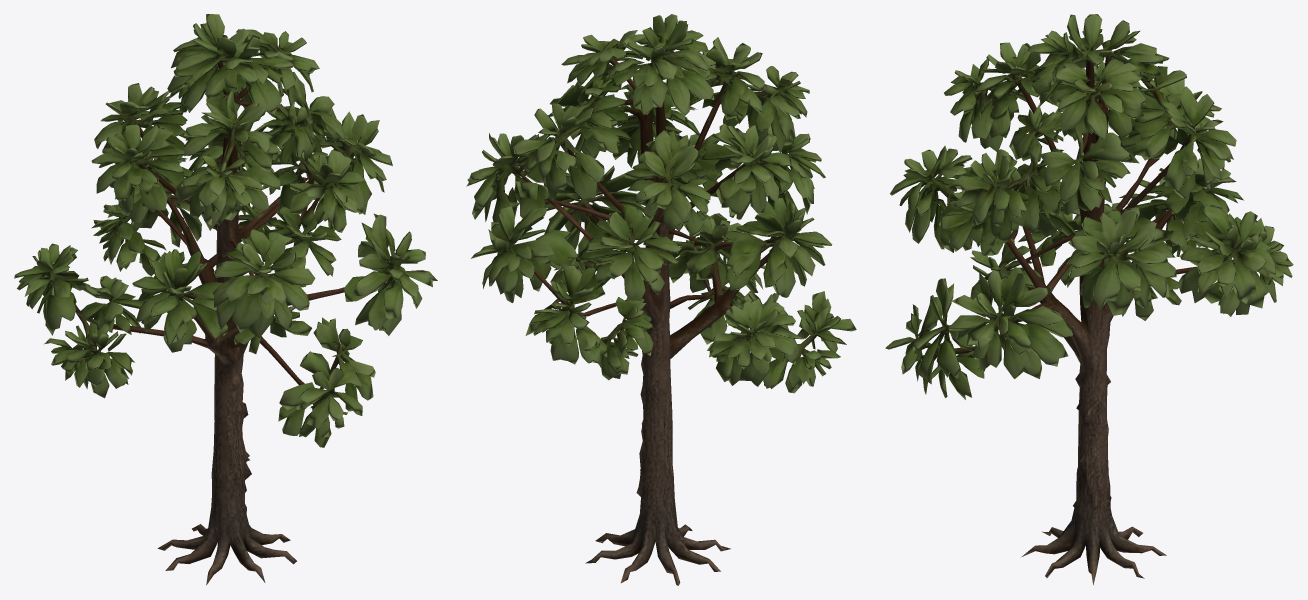
Rendered from sal_tree.glb.
The picture shows the model from 3 angles, left to right: view 1: azimuth 30°, elevation 25°; view 2: azimuth 150°, elevation 25°; view 3: azimuth 270°, elevation 25°; orthographic projection.
Visible parts, largest first — view 1: tripo_node_f646bff2-3a83-4f4a-bca9-8d86384ba72f; view 2: tripo_node_f646bff2-3a83-4f4a-bca9-8d86384ba72f; view 3: tripo_node_f646bff2-3a83-4f4a-bca9-8d86384ba72f.
Boxes of the visible parts, x1=… form: tripo_node_f646bff2-3a83-4f4a-bca9-8d86384ba72f: x1=14, y1=14, x2=437, y2=585; tripo_node_f646bff2-3a83-4f4a-bca9-8d86384ba72f: x1=466, y1=14, x2=856, y2=585; tripo_node_f646bff2-3a83-4f4a-bca9-8d86384ba72f: x1=885, y1=14, x2=1293, y2=584.
Bounding box in the file's own units: 2.39 × 3.5 × 2.43.
Materials: 1 (1 with a texture image).
